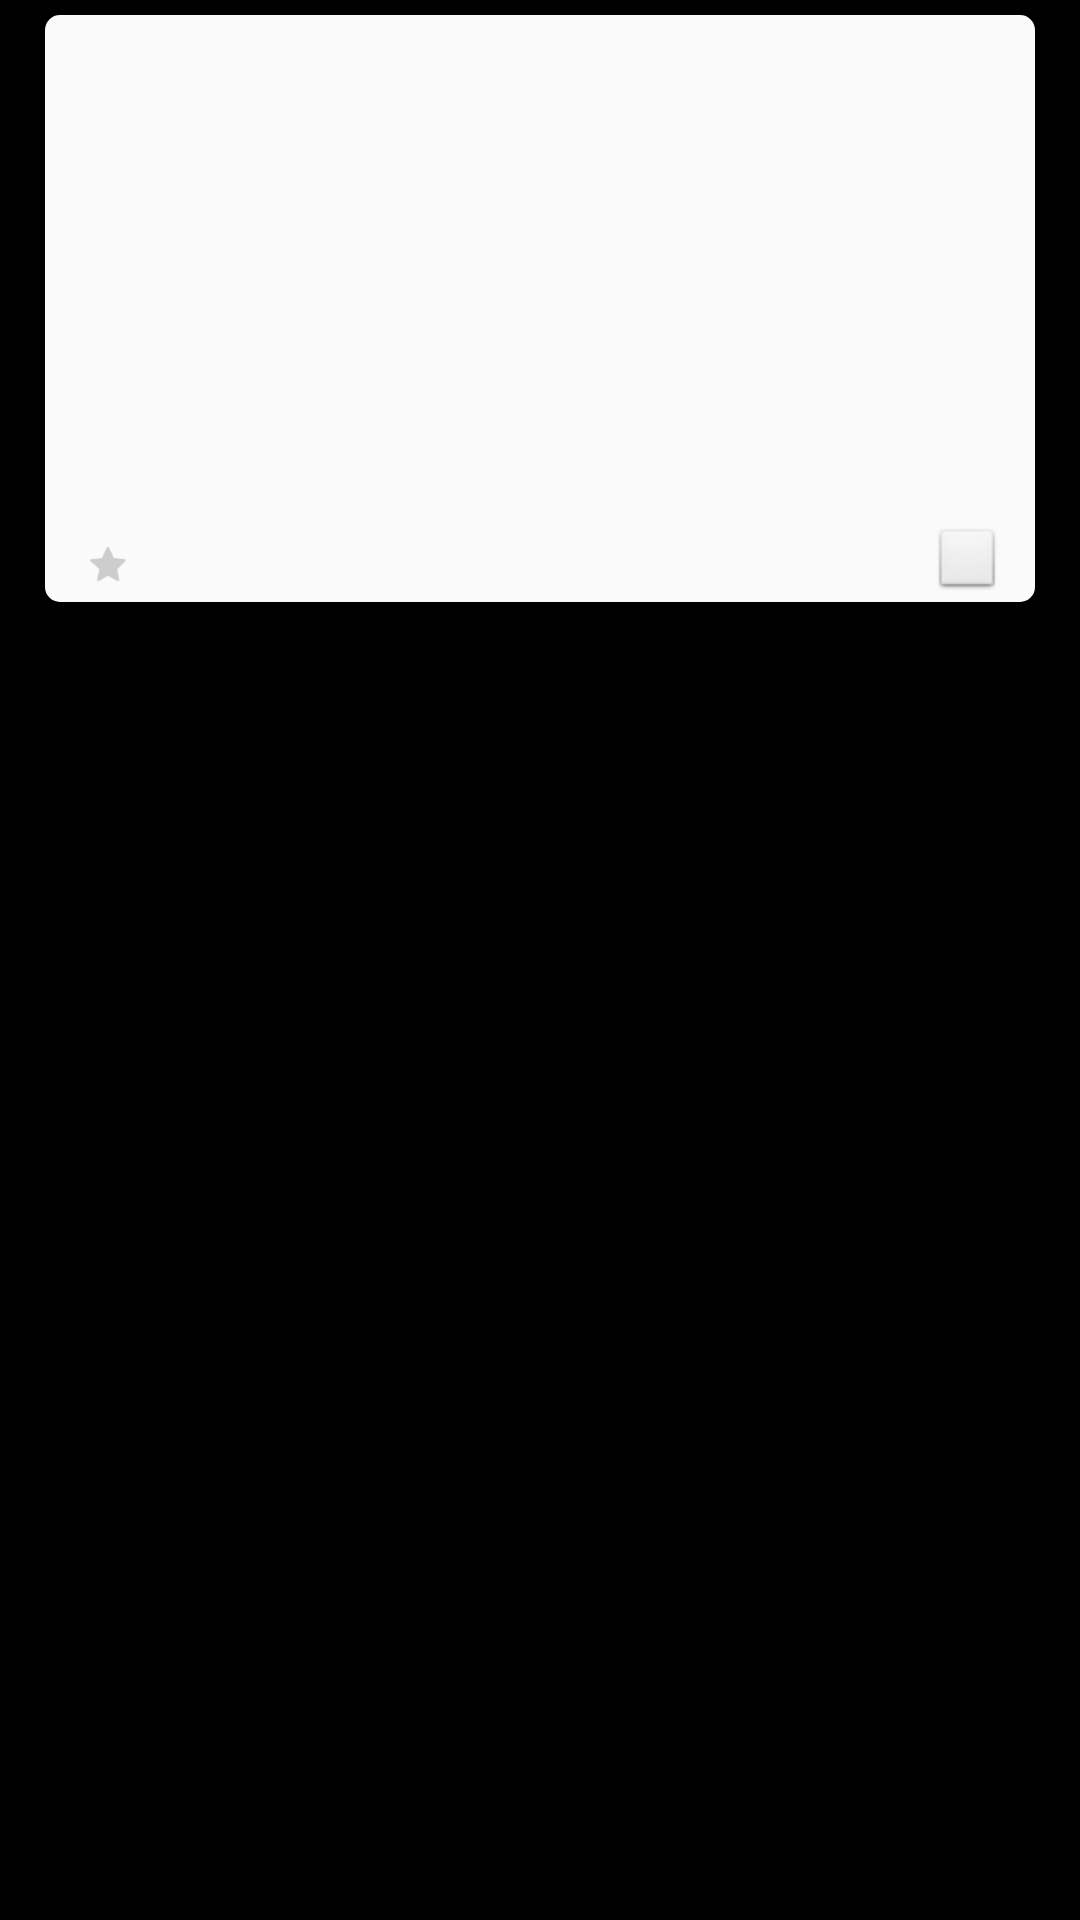

Point at icon controls on the screen. Image size 1080*1920, points as point (x, y).
star: point (107, 564)
